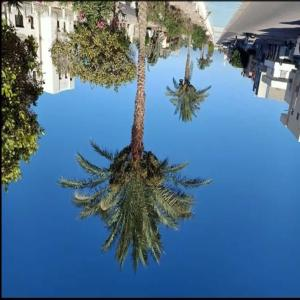palm tree: (49, 1, 215, 273)
